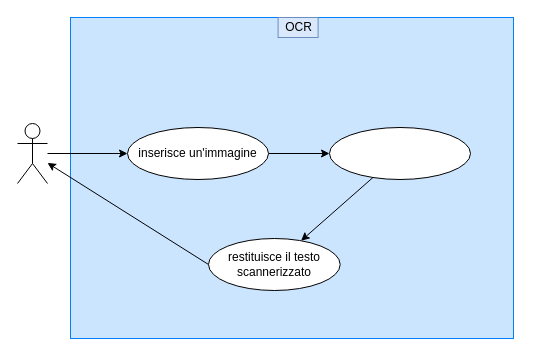
The diagram is 539 pixels wide and 356 high, and some of its shapes have lost their labels. Here are the shapes that lost their labels. From the top down, the box of each, then its label:
(16, 122, 48, 184): User
(328, 126, 470, 180): viene scannerizzata
